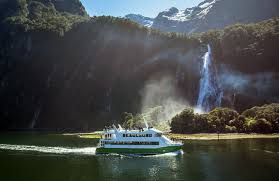boat: (95, 124, 185, 156)
